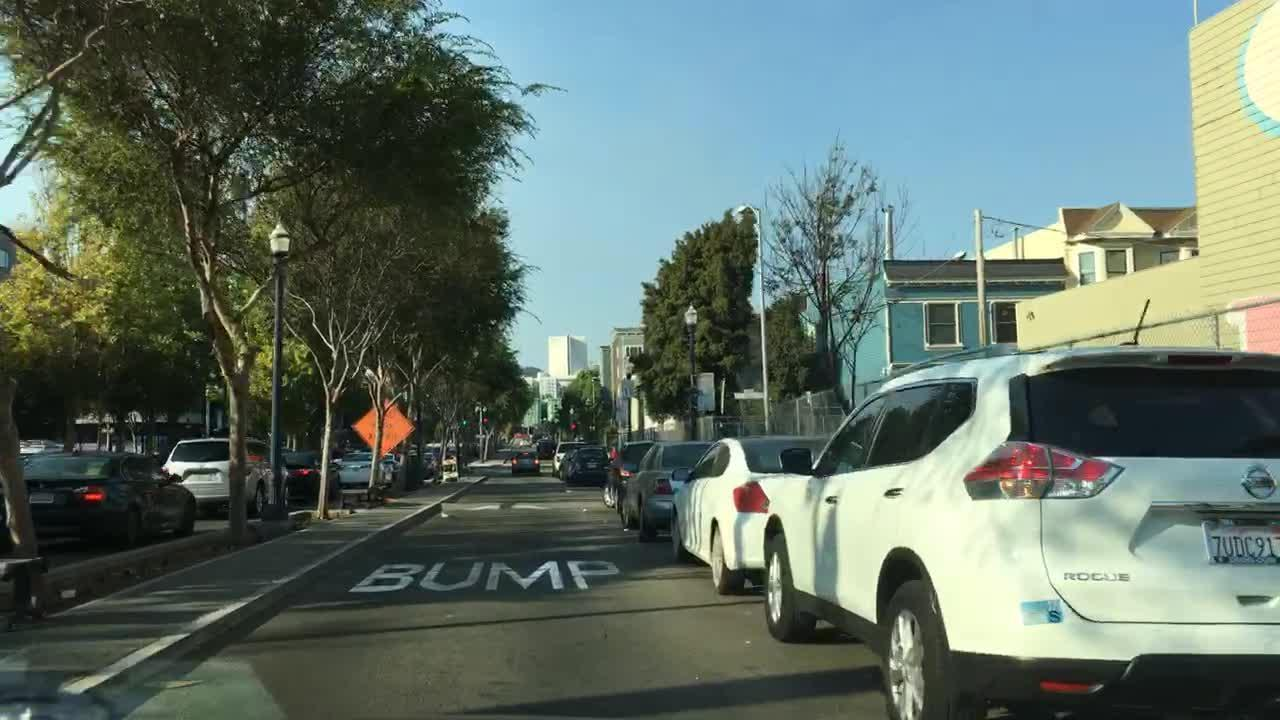Nissan: (1237, 459, 1280, 506)
